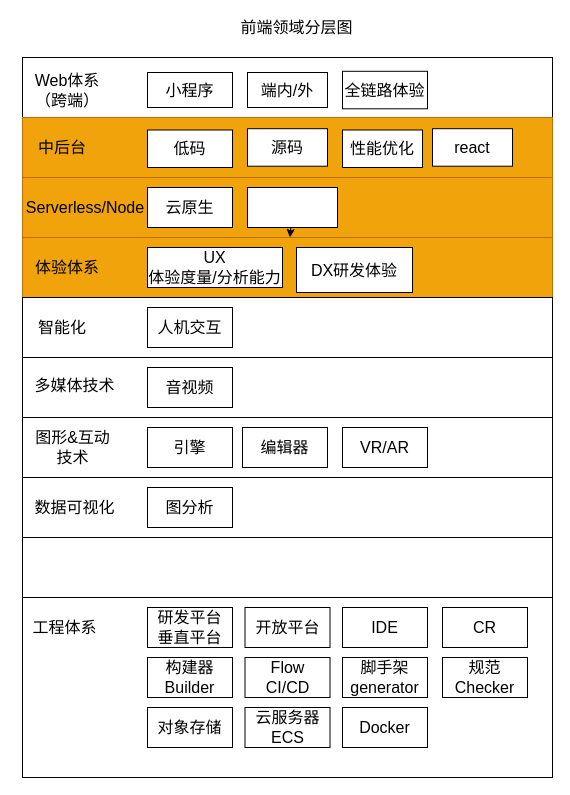
Image size: 570x795. Some labels were removed from this diagram. The centre of each missing label's shape, as x and y in pixels:
"IOT" goes at (x=287, y=567).
"运维/研发" goes at (x=292, y=207).
